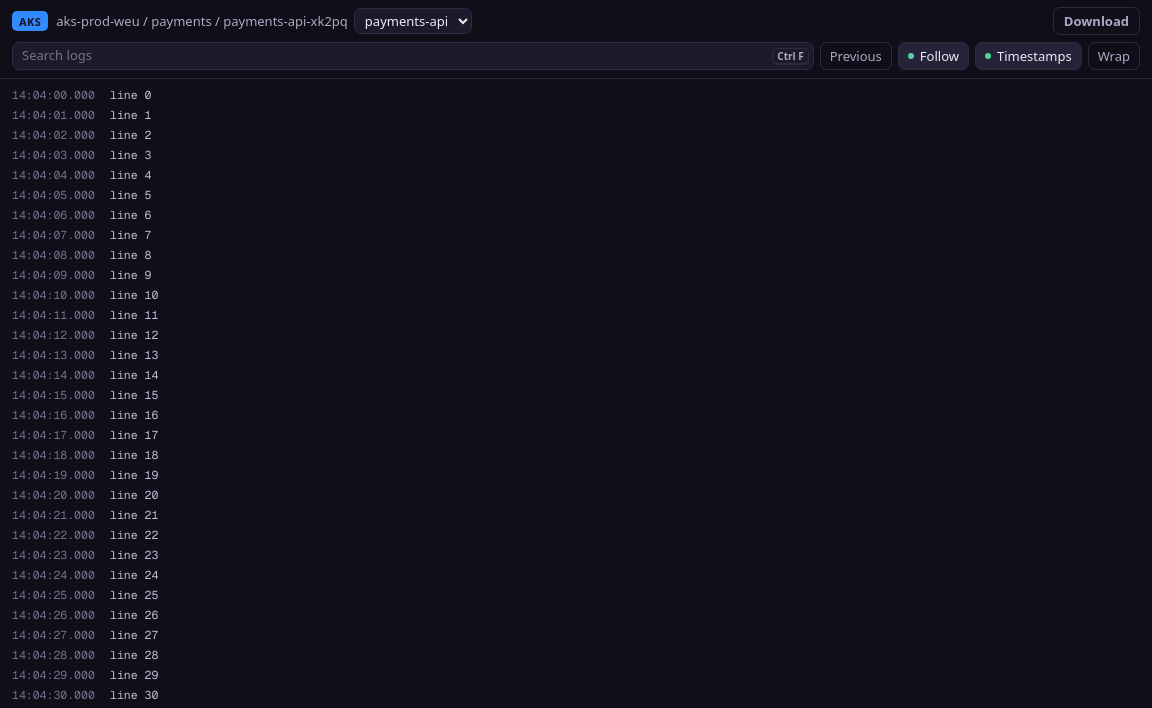
Test: LogPane › a match in the last screenful stays in view on a live log
This screenshot has width=1152, height=708.
Later steps or results of the test are not shown.
Expected: the element showing "14:04:00.000 line 0" is shown, [12,87,151,102]
Step 1. Type "panic" into the search field labelled "Search logs" → (394, 56), box [22,48,766,64]
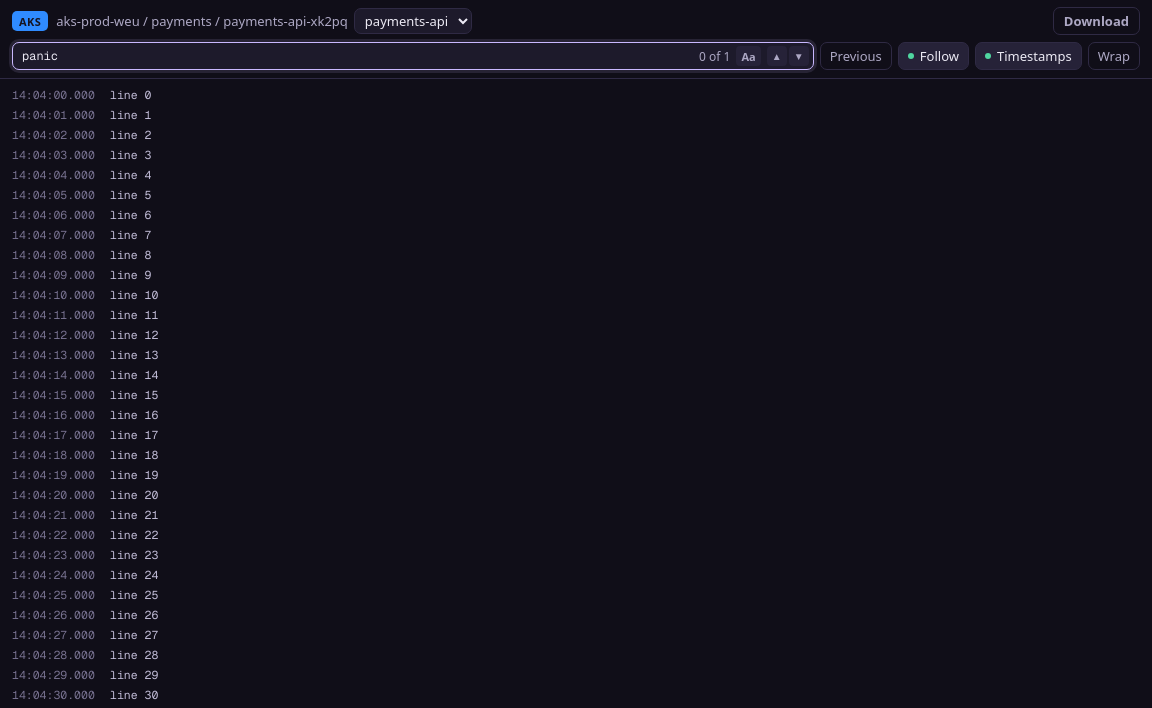
Step 2. Press Enter in the search field named "Search logs", box [22,48,693,64]
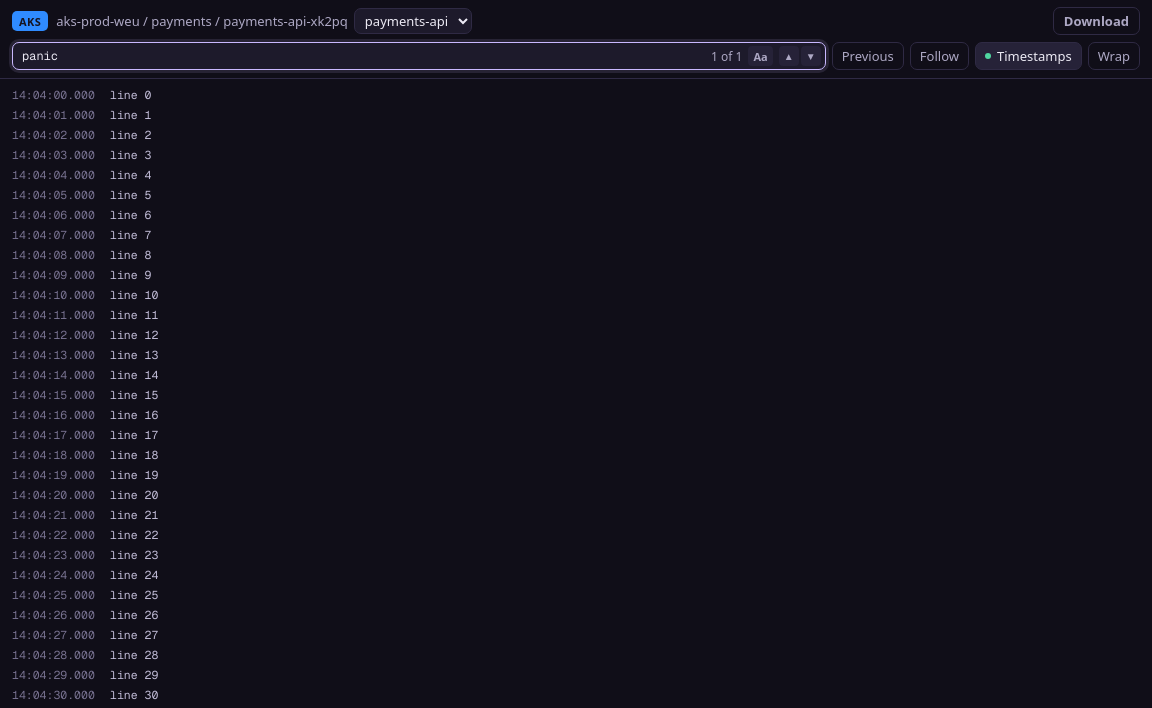
Expected: the button "Follow" is not pressed, [910,42,969,70]
